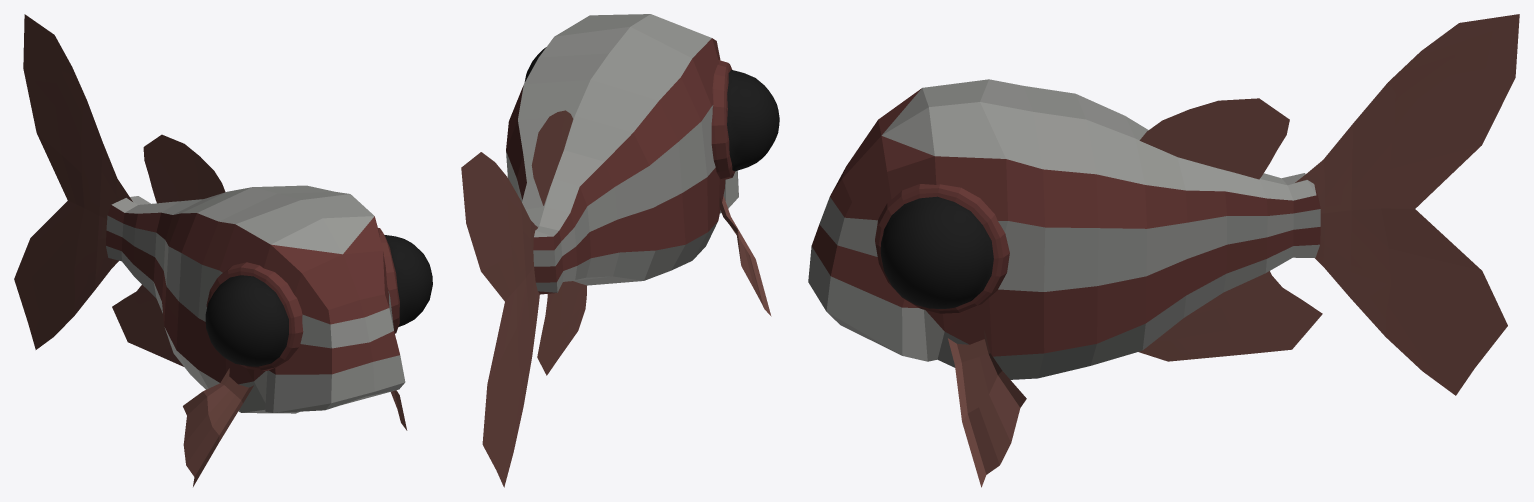
The model's file is CardinalFish.glb.
3 renders of one model, left to right at view 1: azimuth 30°, elevation 25°; view 2: azimuth 150°, elevation 25°; view 3: azimuth 270°, elevation 25°, orthographic. The views are drawn at different scales.
Visible parts, largest first — view 1: CardinalFish_Cube.105; view 2: CardinalFish_Cube.105; view 3: CardinalFish_Cube.105.
Boxes of the visible parts, x1,y1,x2,y2 form: CardinalFish_Cube.105: [14, 14, 432, 486]; CardinalFish_Cube.105: [461, 14, 779, 487]; CardinalFish_Cube.105: [808, 14, 1519, 487].
Bounding box in the file's own units: 2.55 × 3.34 × 5.51.
